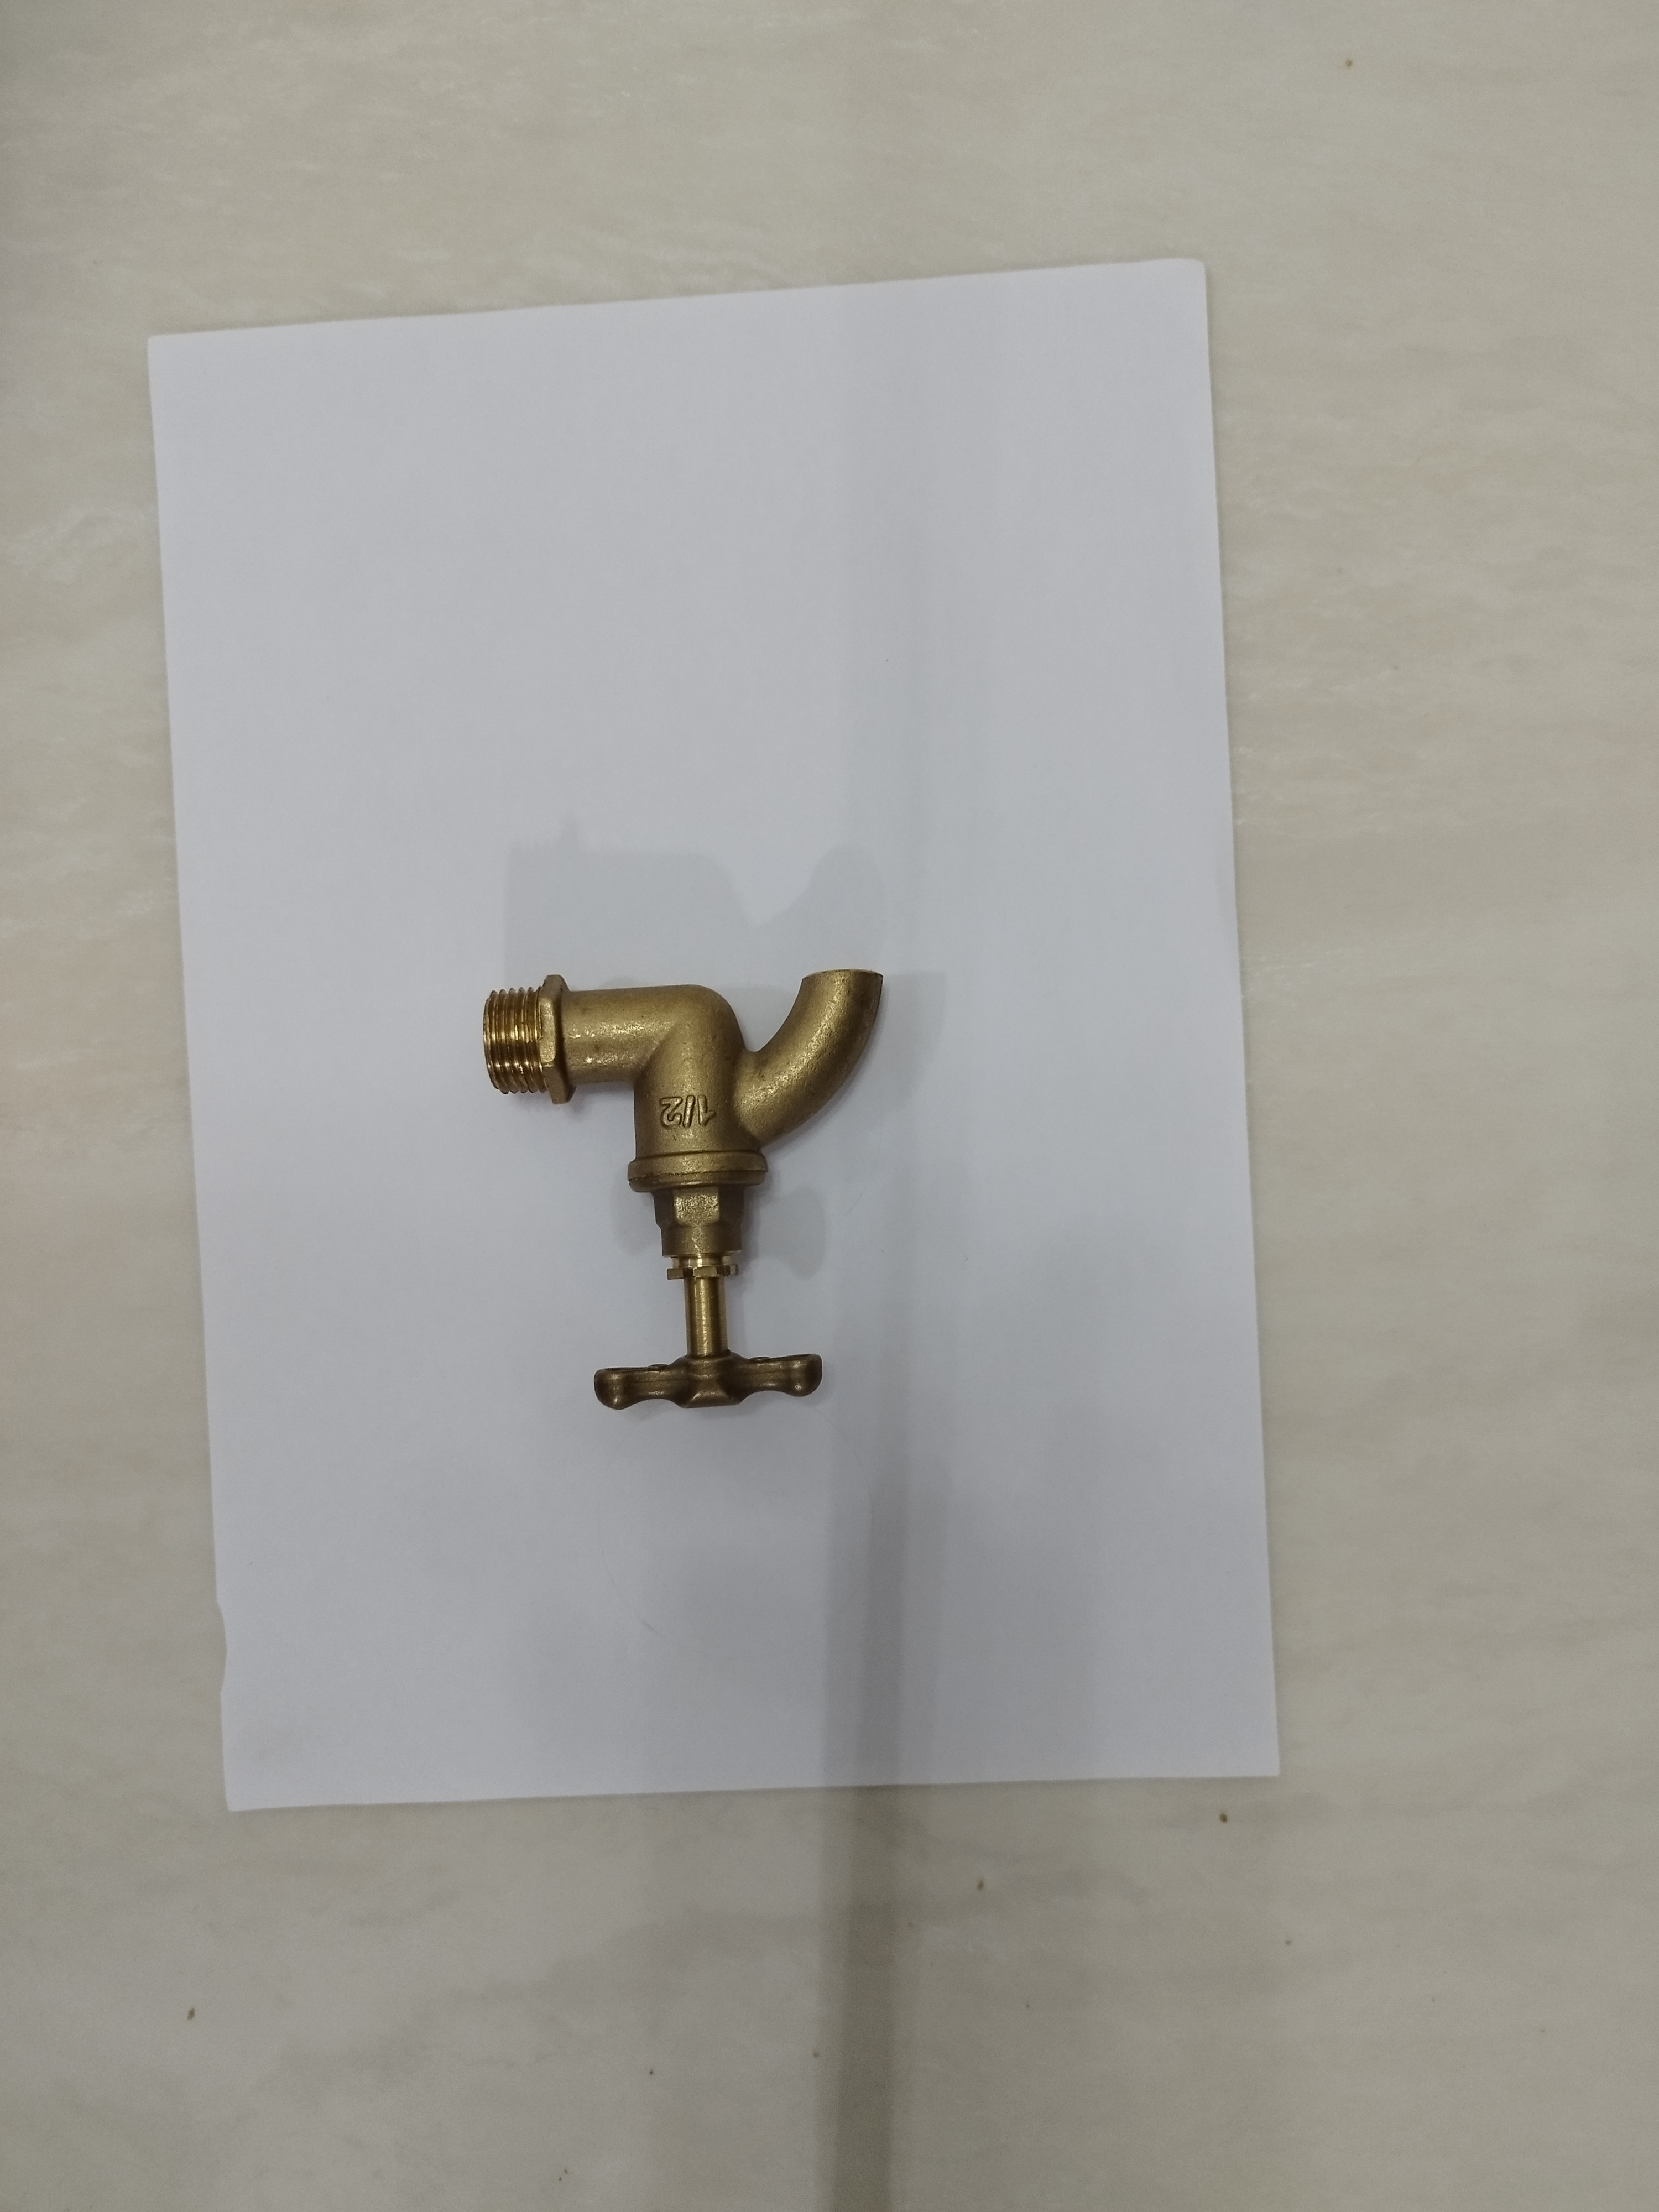brass_water_tap: (455, 946, 918, 1453)
